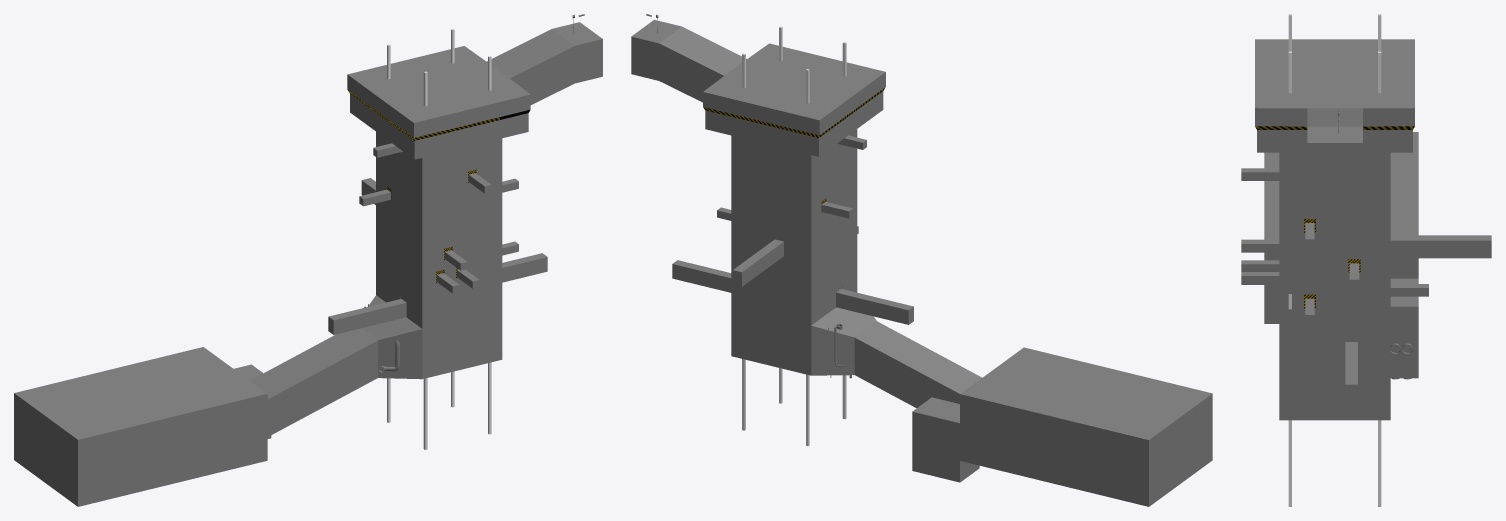
File: warehouse_2.glb
3 views of the same model, side by side, from view 1: azimuth 30°, elevation 25°; view 2: azimuth 150°, elevation 25°; view 3: azimuth 270°, elevation 25° (orthographic). The views are drawn at different scales.
Parts seen in each view (by area): view 1: Cube -col, Plane -col.005, Plane -col.008, Plane -col.003, Plane -col.001, Plane.004 -col.026, Plane.004 -col.018, Plane -col.004, Plane.004 -col.011, Plane -col.007, Plane -col.006, Plane.004 -col.019 (+1 smaller); view 2: Cube -col, Plane -col.005, Plane -col.008, Plane -col.003, Plane -col.001, Plane.004 -col.020, Plane -col.002, Plane.004 -col.018, Plane.004 -col.009, Plane.004 -col.019, Plane -col.004, Plane -col.006 (+3 smaller); view 3: Cube -col, Plane -col.008, Plane -col.005, Plane.004 -col.009, Plane -col.003, Plane.004 -col.011, Plane.004 -col.026, Plane -col.002, Plane.004 -col.004, Plane.004 -col.016, Plane.004 -col.019, Plane -col.001 (+17 smaller).
Part boxes in pixels (box(x1,y1,x2,y2)): Cube -col: box(14, 22, 602, 506); Plane -col.005: box(376, 190, 502, 244); Plane -col.008: box(376, 253, 502, 307); Plane -col.003: box(376, 161, 502, 211); Plane -col.001: box(376, 132, 502, 182); Plane.004 -col.026: box(422, 288, 502, 328); Plane.004 -col.018: box(328, 291, 408, 334); Plane -col.004: box(422, 192, 502, 223); Plane.004 -col.011: box(454, 226, 502, 256); Plane -col.007: box(376, 232, 502, 274); Plane -col.006: box(376, 211, 422, 265); Plane.004 -col.019: box(502, 253, 547, 282); Cube -col: box(631, 19, 1212, 506); Plane -col.005: box(731, 188, 857, 241); Plane -col.008: box(731, 250, 857, 304); Plane -col.003: box(731, 158, 857, 208); Plane -col.001: box(731, 129, 857, 179); Plane.004 -col.020: box(731, 285, 811, 325); Plane -col.002: box(731, 148, 857, 191); Plane.004 -col.018: box(834, 281, 913, 324); Plane.004 -col.009: box(733, 232, 787, 286); Plane.004 -col.019: box(672, 260, 731, 292); Plane -col.004: box(731, 189, 811, 220); Plane -col.006: box(811, 208, 857, 262); Cube -col: box(1255, 39, 1418, 420); Plane -col.008: box(1279, 309, 1390, 334); Plane -col.005: box(1279, 233, 1390, 258); Plane.004 -col.009: box(1390, 235, 1491, 258); Plane -col.003: box(1279, 198, 1390, 218); Plane.004 -col.011: box(1279, 258, 1345, 283); Plane.004 -col.026: box(1279, 334, 1340, 359); Plane -col.002: box(1279, 183, 1390, 198); Plane.004 -col.004: box(1318, 218, 1390, 233); Plane.004 -col.016: box(1318, 294, 1390, 309); Plane.004 -col.019: box(1340, 334, 1362, 402); Plane -col.001: box(1279, 163, 1390, 182).
Size of the model in its own units: 136 by 90.35 by 45.03.
Materials: 2 (1 with a texture image).
